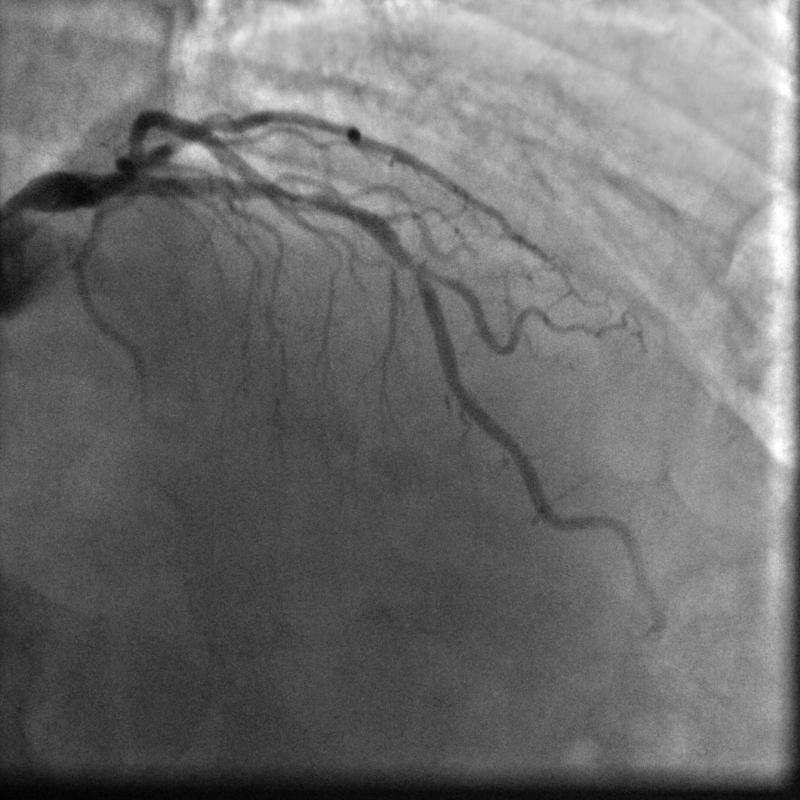Stenosis: (270, 182, 319, 211)
